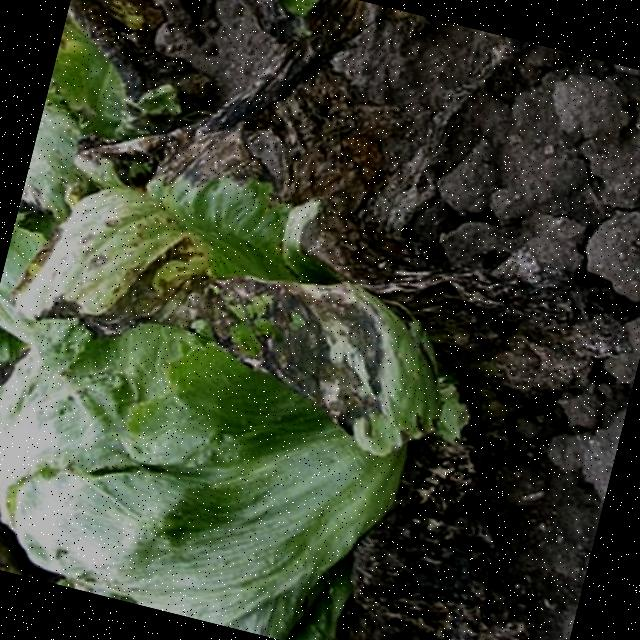Bacterial: (159, 254, 398, 446)
